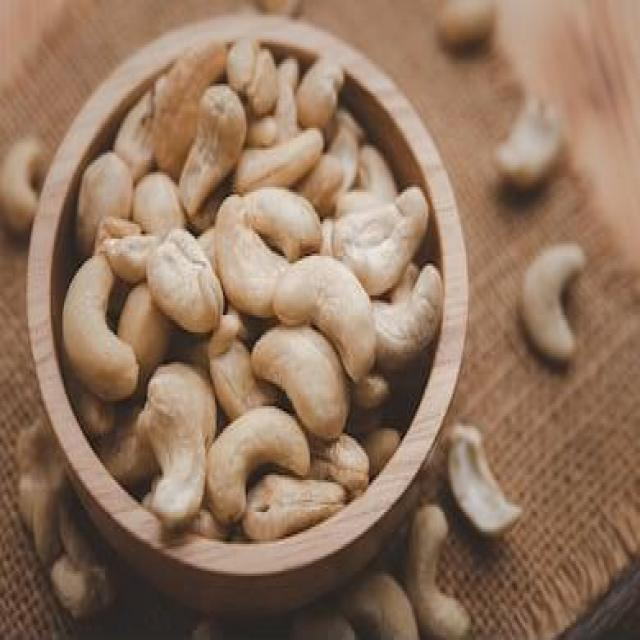Cashew: (159, 406, 250, 534), (336, 168, 436, 284), (145, 224, 227, 365), (67, 284, 136, 439), (272, 252, 388, 333), (263, 332, 366, 419), (176, 93, 249, 214), (212, 191, 274, 327), (227, 118, 334, 192), (212, 415, 316, 481)
